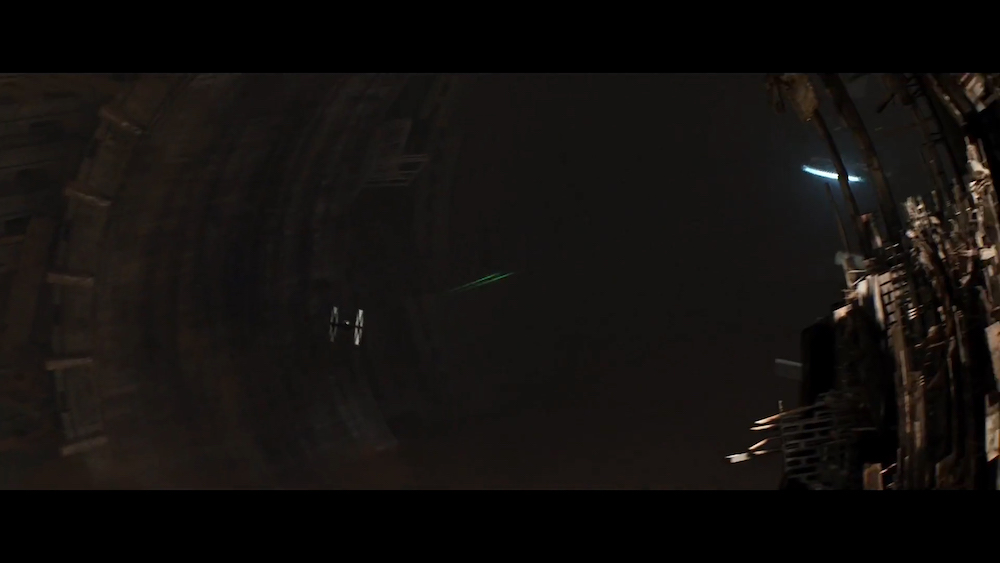Millennium Falcon: (797, 154, 895, 190)
Tie Fighter: (325, 307, 366, 349)
